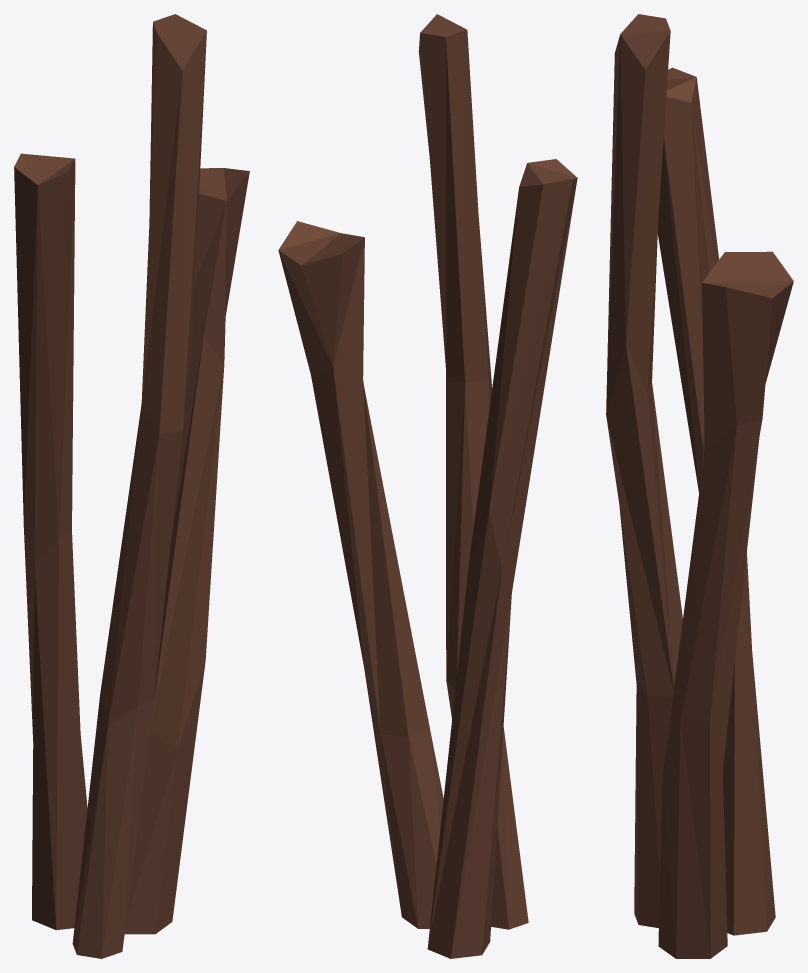
File: Wooden Sticks_2.fbx
3 renders of one model, left to right at view 1: azimuth 30°, elevation 25°; view 2: azimuth 150°, elevation 25°; view 3: azimuth 270°, elevation 25°, orthographic. The views are drawn at different scales.
Visible parts, largest first — view 1: Wooden Sticks_2.001; view 2: Wooden Sticks_2.001; view 3: Wooden Sticks_2.001.
Boxes of the visible parts, x1=… form: Wooden Sticks_2.001: x1=14, y1=14, x2=249, y2=958; Wooden Sticks_2.001: x1=278, y1=14, x2=577, y2=958; Wooden Sticks_2.001: x1=606, y1=14, x2=793, y2=958.
Bounding box in the file's own units: 0.5307 × 1.76 × 0.3229.
